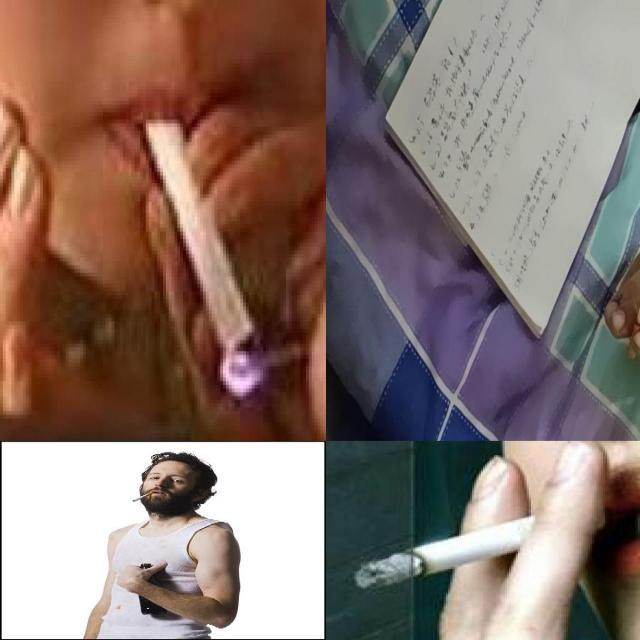cigarette: (145, 114, 263, 358), (354, 504, 607, 592), (626, 265, 640, 360), (132, 491, 154, 502)
